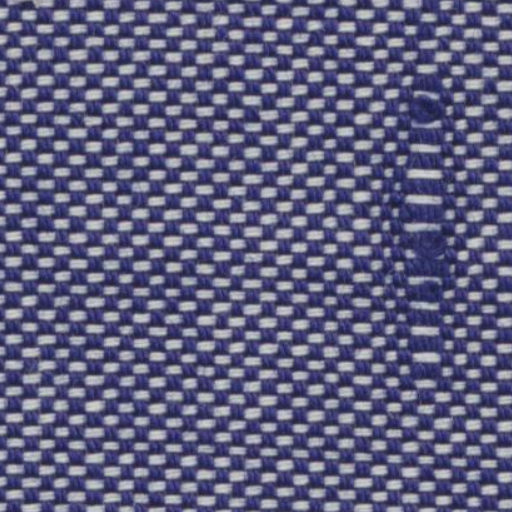DaiSha: (390, 23, 458, 403)
